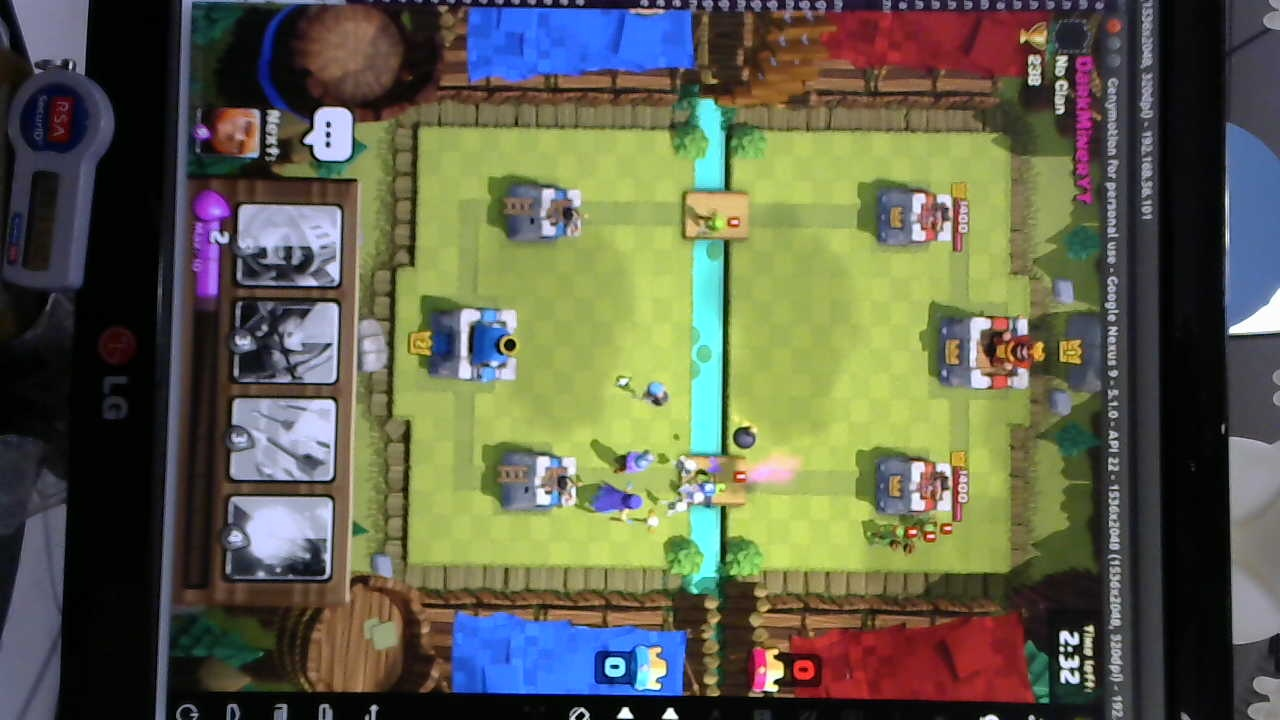arena: (503, 179, 587, 250), (500, 448, 578, 514)
bomb: (639, 380, 673, 409)
earena: (866, 458, 962, 515), (879, 185, 957, 244)
eking: (932, 315, 1035, 390)
goblin: (694, 210, 737, 242), (690, 467, 726, 500)
king: (425, 302, 524, 385)
musketeer: (609, 449, 664, 479)
skeleton: (671, 449, 712, 518)
speargoblins: (862, 514, 953, 550)
witch: (589, 486, 661, 529)
